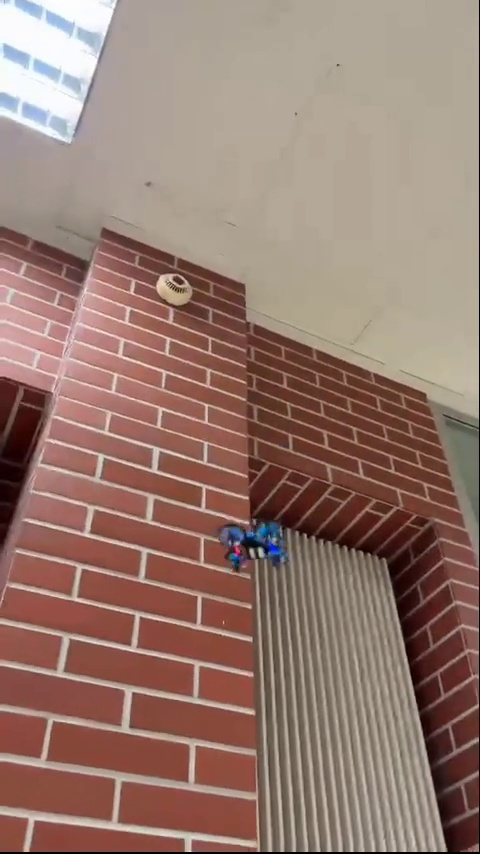drone: (221, 523, 284, 559)
